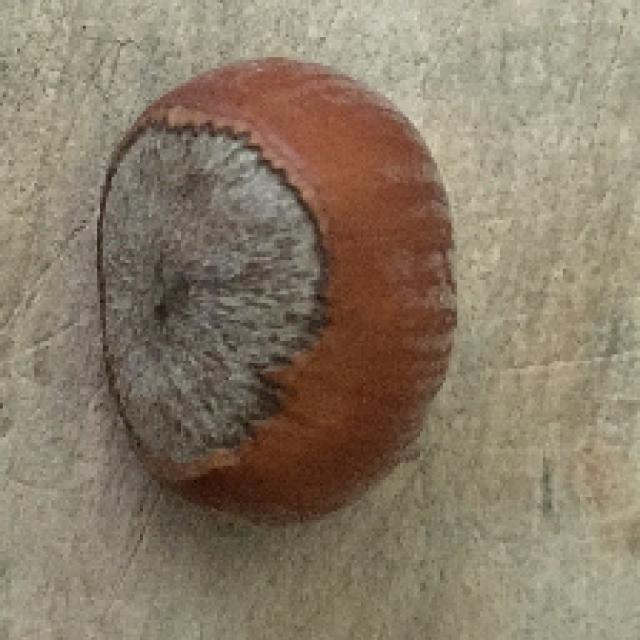qualityHazelnut: (92, 44, 472, 534)
